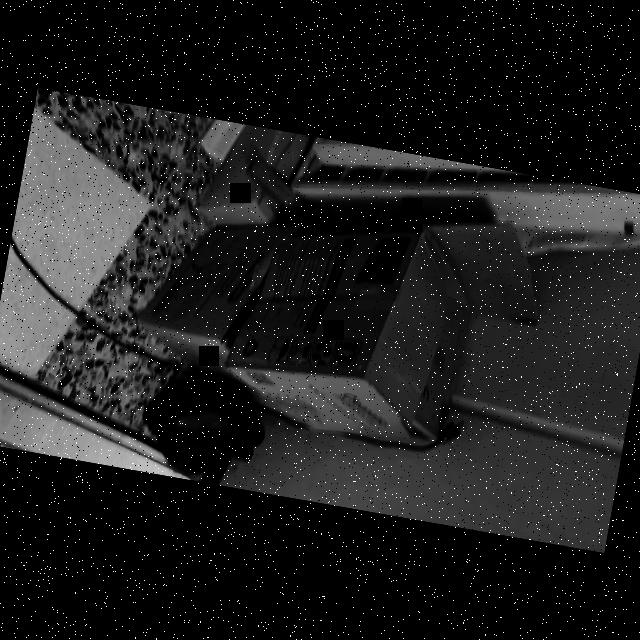cardboard_box: (210, 176, 551, 460), (131, 202, 299, 394)
